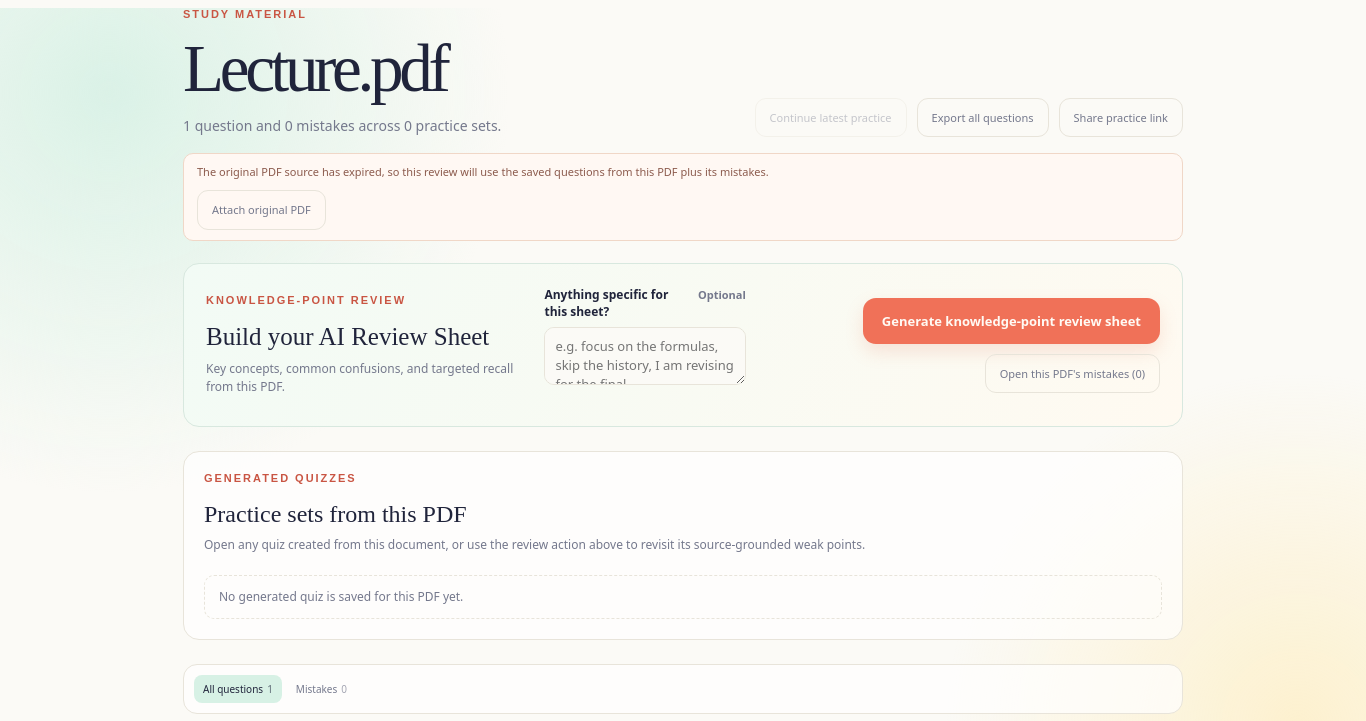
Test case: MaterialDetailView › can generate a review from saved quiz questions when the original PDF source expired
Click the button "Generate knowledge-point review sheet": (1011, 321) [863,298,1160,344]
(page scrolled)
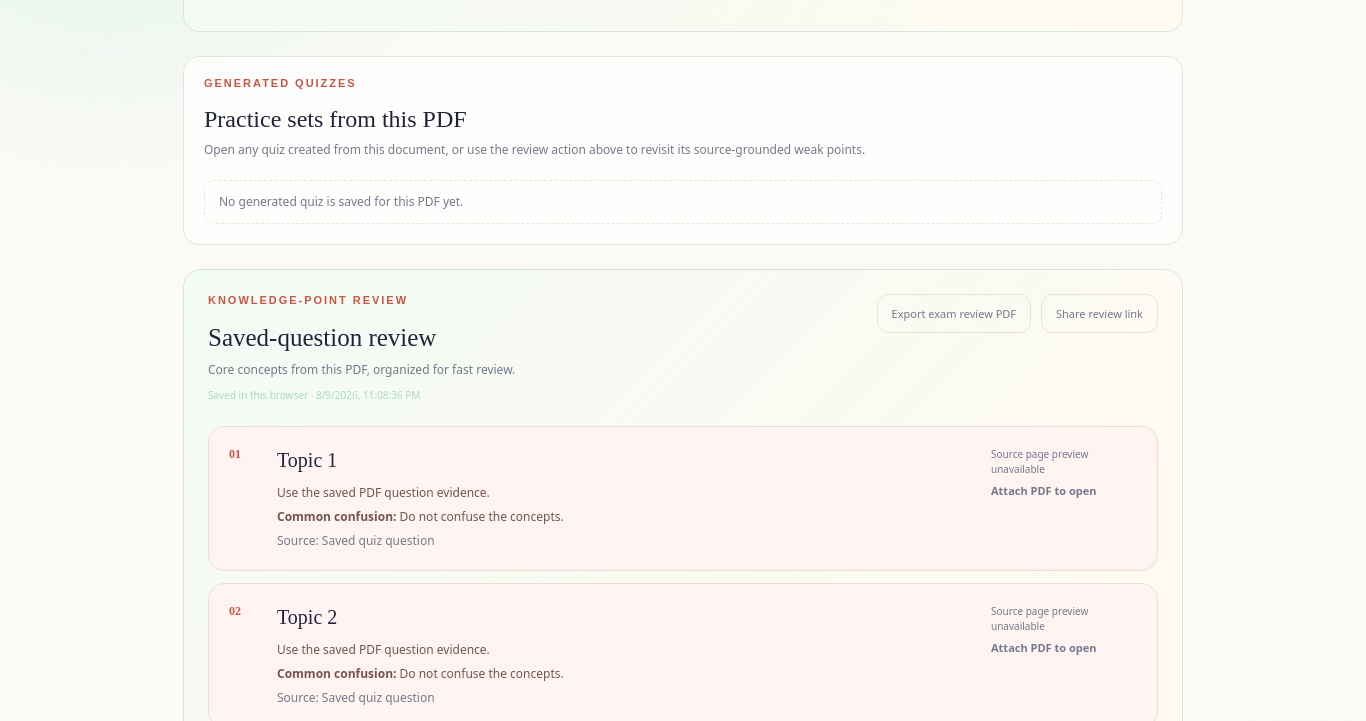
Result: the heading "Saved-question review" is shown at [208,324,436,351]
